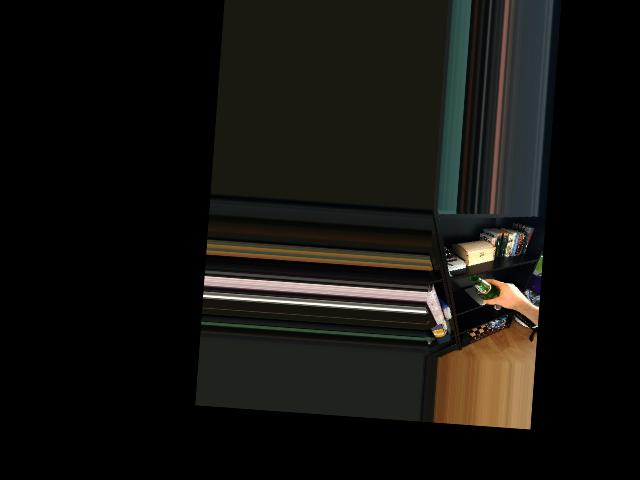beer: (467, 275, 503, 306)
